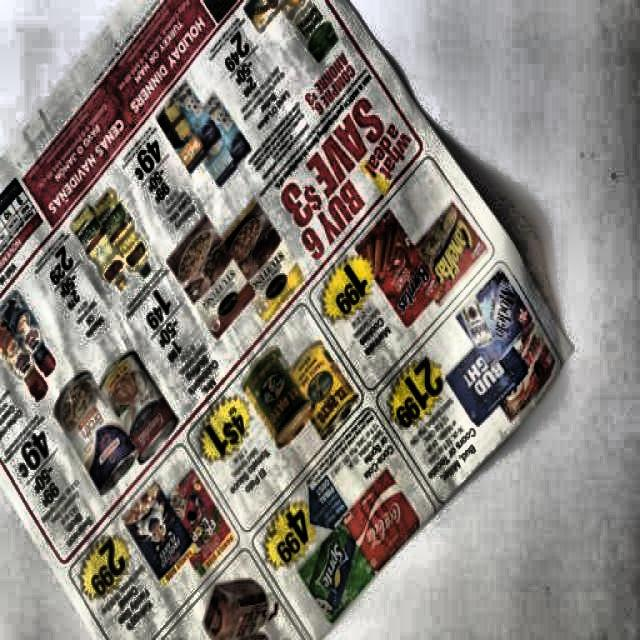Paper: (0, 0, 571, 638)
